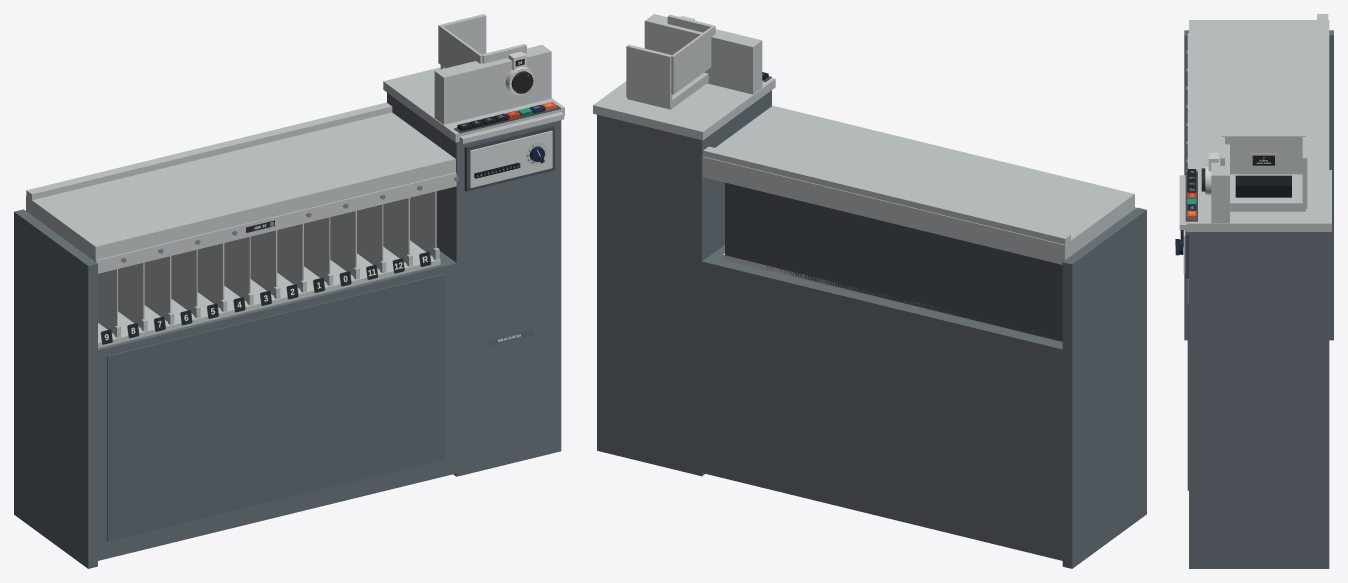
The model's file is 083-classificadora.glb.
3 renders of one model, left to right at view 1: azimuth 30°, elevation 25°; view 2: azimuth 150°, elevation 25°; view 3: azimuth 270°, elevation 25°, orthographic.
Visible parts, largest first — view 1: 083-classificadora_peca_6, 083-classificadora_peca_51, 083-classificadora_peca_37, 083-classificadora_peca_1, 083-classificadora_peca_0, 083-classificadora_peca_61, 083-classificadora_peca_38, 083-classificadora_peca_8, 083-classificadora_peca_50, 083-classificadora_peca_52, 083-classificadora_peca_55, painel_pockets (+17 smaller); view 2: 083-classificadora_peca_0, 083-classificadora_peca_51, 083-classificadora_peca_37, 083-classificadora_peca_1, 083-classificadora_peca_7, 083-classificadora_peca_52, 083-classificadora_peca_61, 083-classificadora_peca_50, 083-classificadora_peca_58, 083-classificadora_peca_60, 083-classificadora_peca_8; view 3: 083-classificadora_peca_51, 083-classificadora_peca_37, 083-classificadora_peca_52, 083-classificadora_peca_60, 083-classificadora_peca_1, 083-classificadora_peca_50, 083-classificadora_peca_61, 083-classificadora_peca_57, srtW, 083-classificadora_peca_6, 083-classificadora_peca_58, 083-classificadora_peca_53 (+3 smaller).
Boxes of the visible parts, x1,y1,x2,y2 form: 083-classificadora_peca_6: [107, 273, 445, 541]; 083-classificadora_peca_51: [387, 92, 561, 476]; 083-classificadora_peca_37: [26, 112, 455, 261]; 083-classificadora_peca_1: [14, 209, 97, 568]; 083-classificadora_peca_0: [98, 251, 456, 560]; 083-classificadora_peca_61: [434, 44, 551, 124]; 083-classificadora_peca_38: [95, 172, 456, 273]; 083-classificadora_peca_8: [98, 240, 440, 348]; 083-classificadora_peca_50: [26, 102, 392, 200]; 083-classificadora_peca_52: [383, 67, 564, 142]; 083-classificadora_peca_55: [469, 130, 552, 188]; painel_pockets: [101, 252, 431, 344]; 083-classificadora_peca_0: [702, 245, 1062, 560]; 083-classificadora_peca_51: [597, 90, 771, 476]; 083-classificadora_peca_37: [702, 105, 1134, 264]; 083-classificadora_peca_1: [1062, 207, 1146, 568]; 083-classificadora_peca_7: [725, 182, 1062, 341]; 083-classificadora_peca_52: [593, 78, 775, 140]; 083-classificadora_peca_61: [644, 14, 762, 94]; 083-classificadora_peca_50: [703, 146, 1070, 245]; 083-classificadora_peca_58: [626, 44, 672, 107]; 083-classificadora_peca_60: [671, 25, 715, 94]; 083-classificadora_peca_8: [722, 253, 1062, 342]; 083-classificadora_peca_51: [1189, 232, 1329, 568]; 083-classificadora_peca_37: [1189, 20, 1329, 169]; 083-classificadora_peca_52: [1186, 170, 1331, 231]; 083-classificadora_peca_60: [1221, 135, 1305, 174]; 083-classificadora_peca_1: [1184, 30, 1333, 340]; 083-classificadora_peca_50: [1317, 14, 1328, 169]; 083-classificadora_peca_61: [1211, 122, 1229, 223]; 083-classificadora_peca_57: [1230, 182, 1305, 211]; srtW: [1235, 175, 1291, 197]; 083-classificadora_peca_6: [1187, 278, 1188, 490]; 083-classificadora_peca_58: [1302, 137, 1307, 208]; 083-classificadora_peca_53: [1179, 175, 1186, 229].
Bounding box in the file's own units: 59.4 × 47.5 × 16.99.
Materials: 106 (26 with a texture image).
